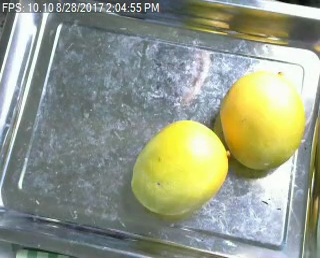Mango: (131, 117, 232, 216), (218, 68, 310, 172)
